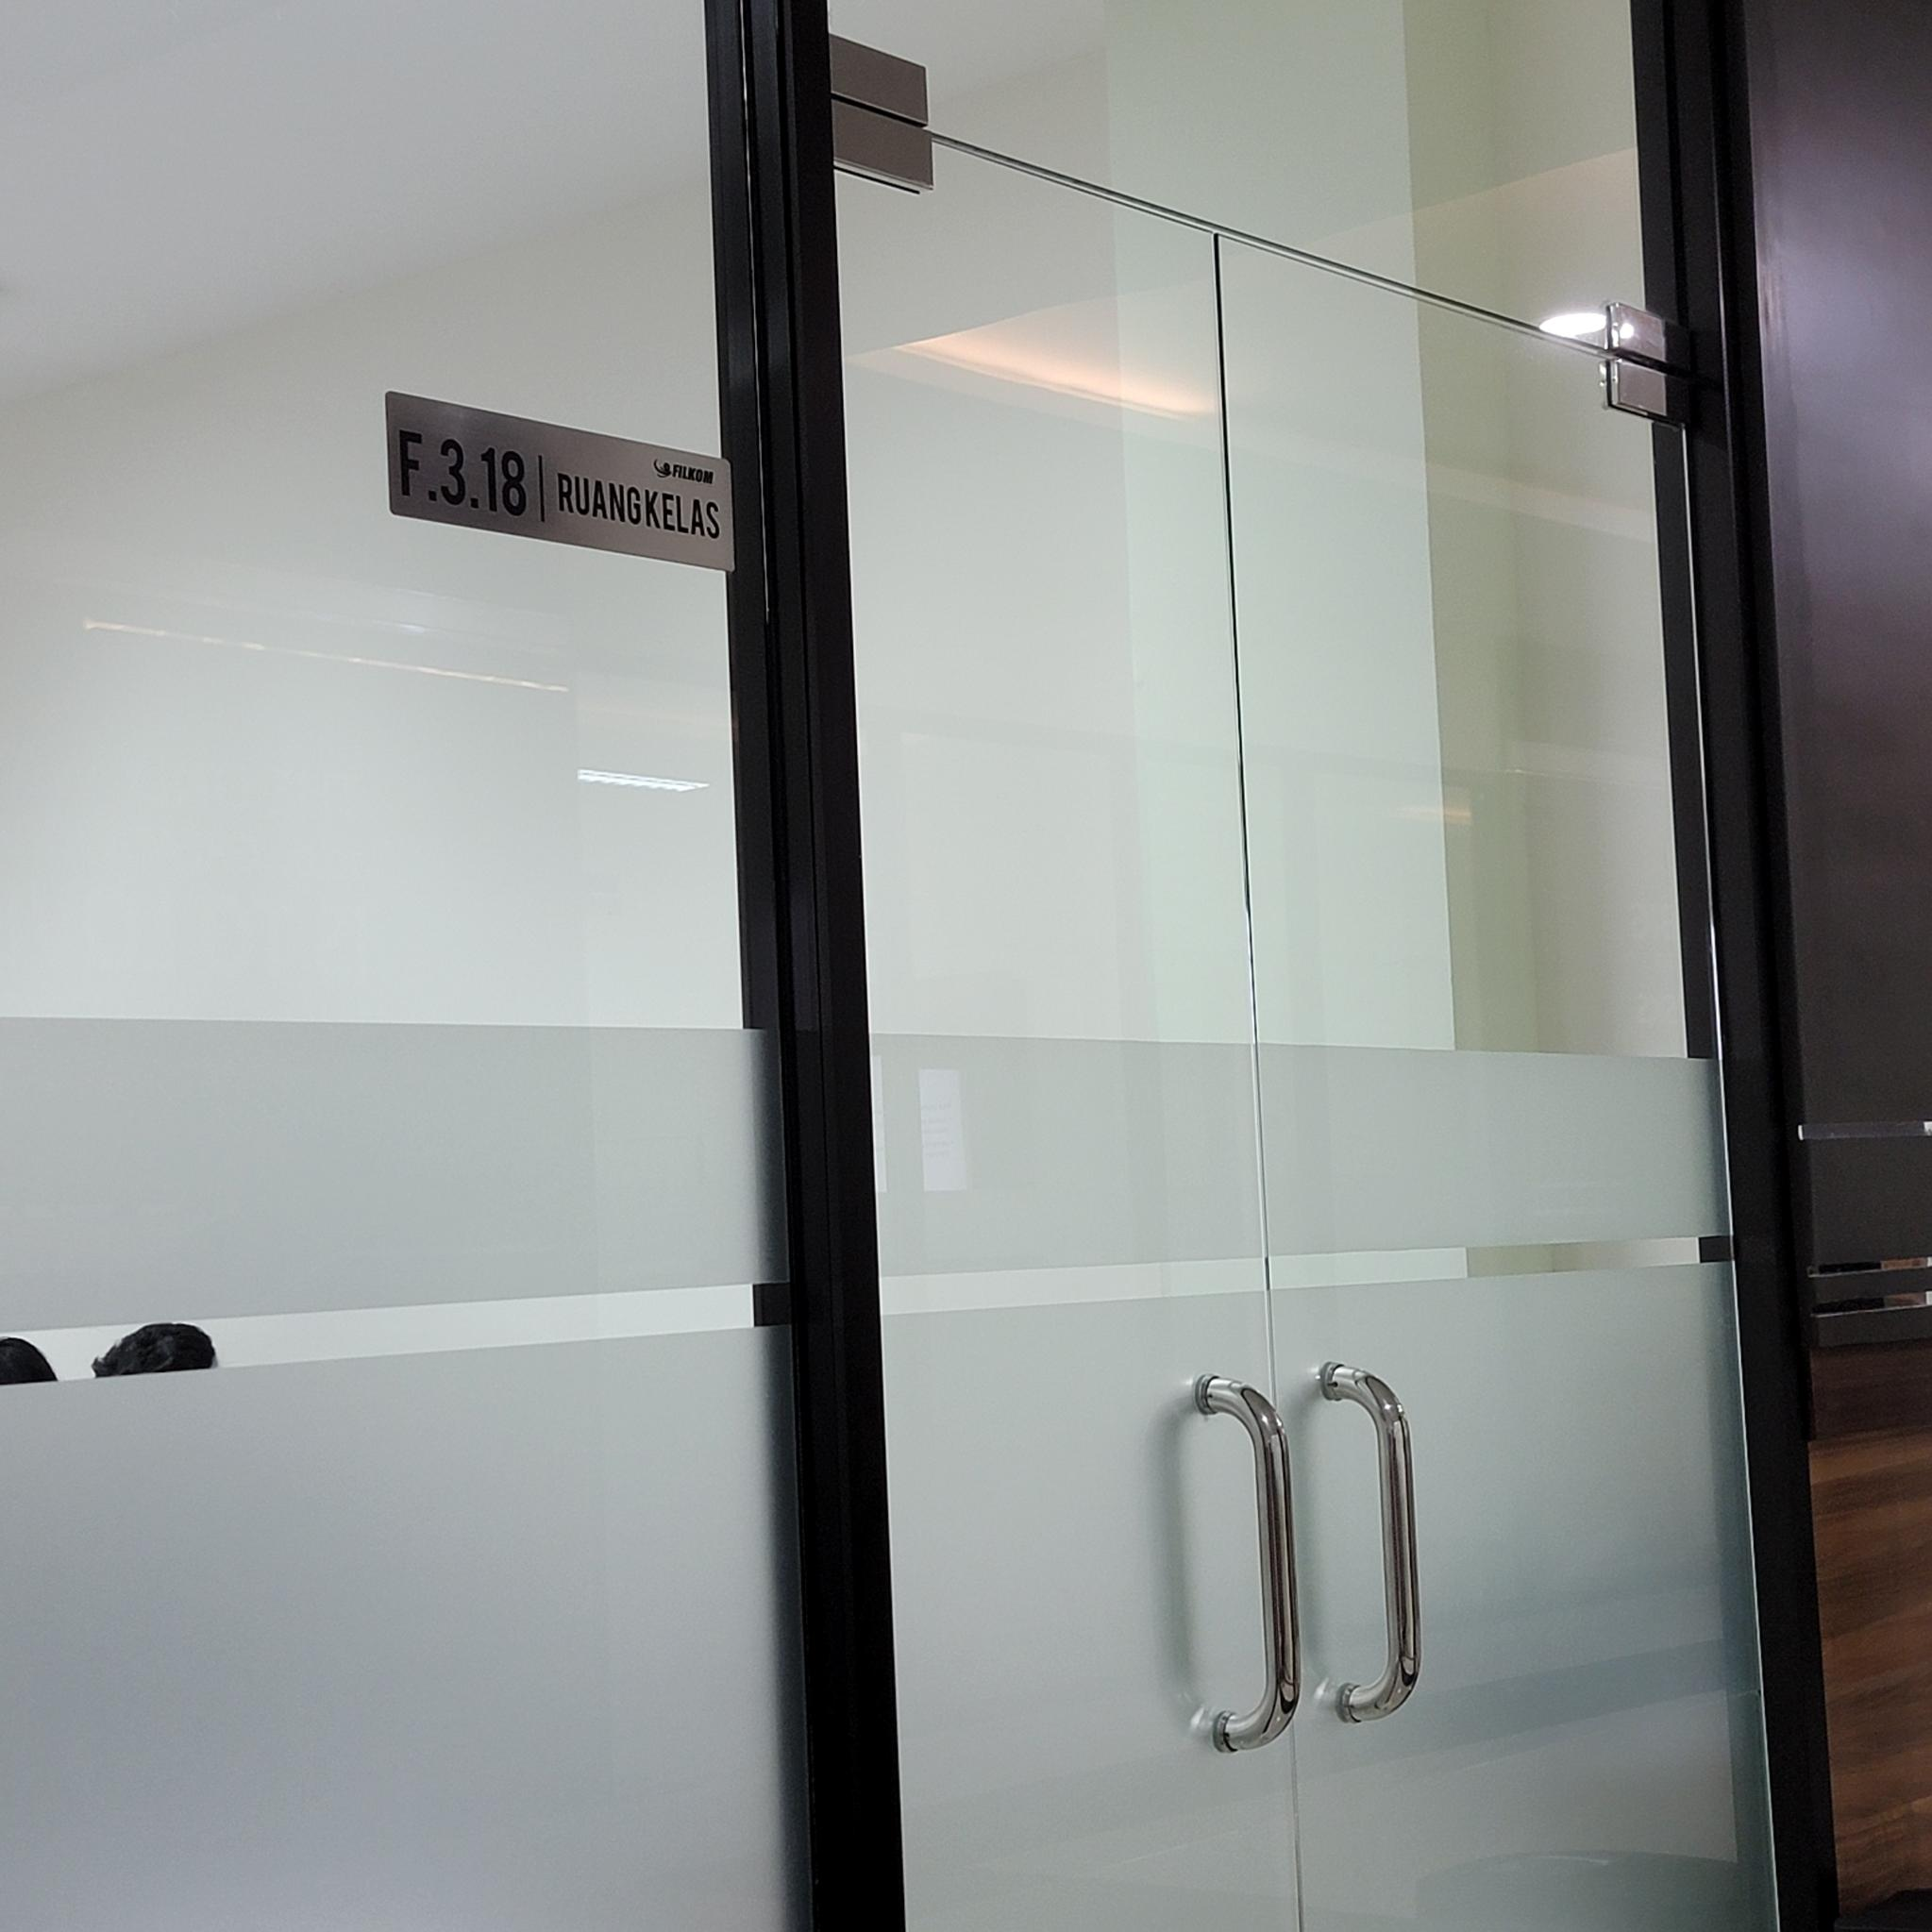plate: (387, 387, 736, 575)
